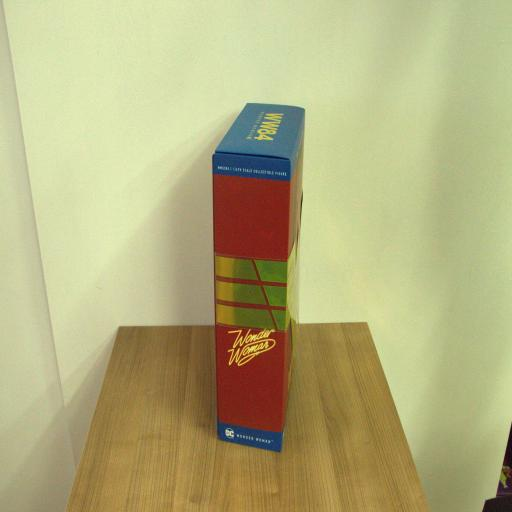WonderWoman: (211, 103, 306, 453)
